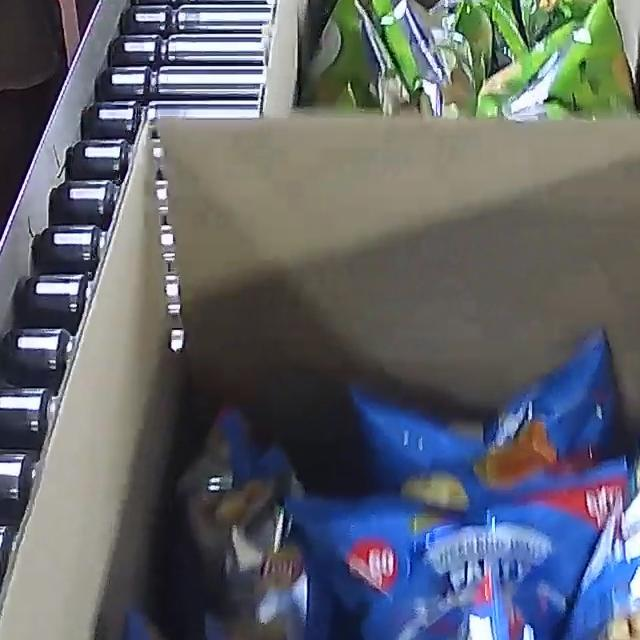paprika: (114, 325, 640, 640)
yogurt: (303, 0, 640, 122)
